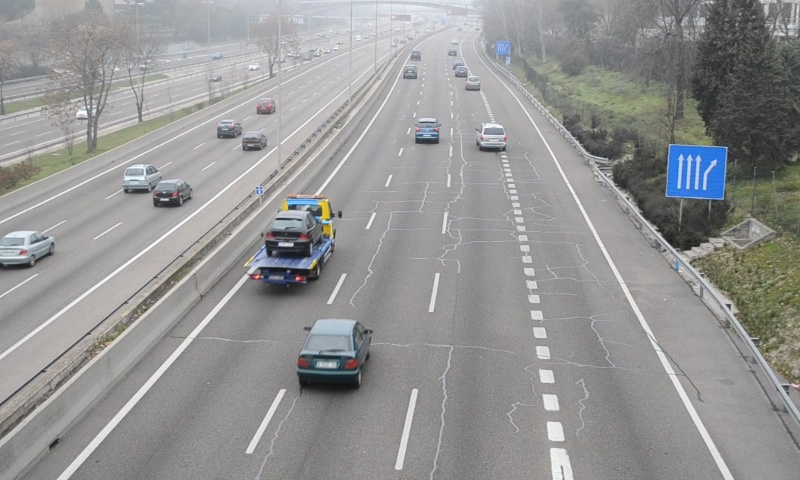car: (296, 319, 370, 382), (477, 122, 506, 149), (414, 117, 439, 142), (466, 74, 482, 91), (402, 64, 417, 80)
small-truck: (244, 194, 336, 284)
